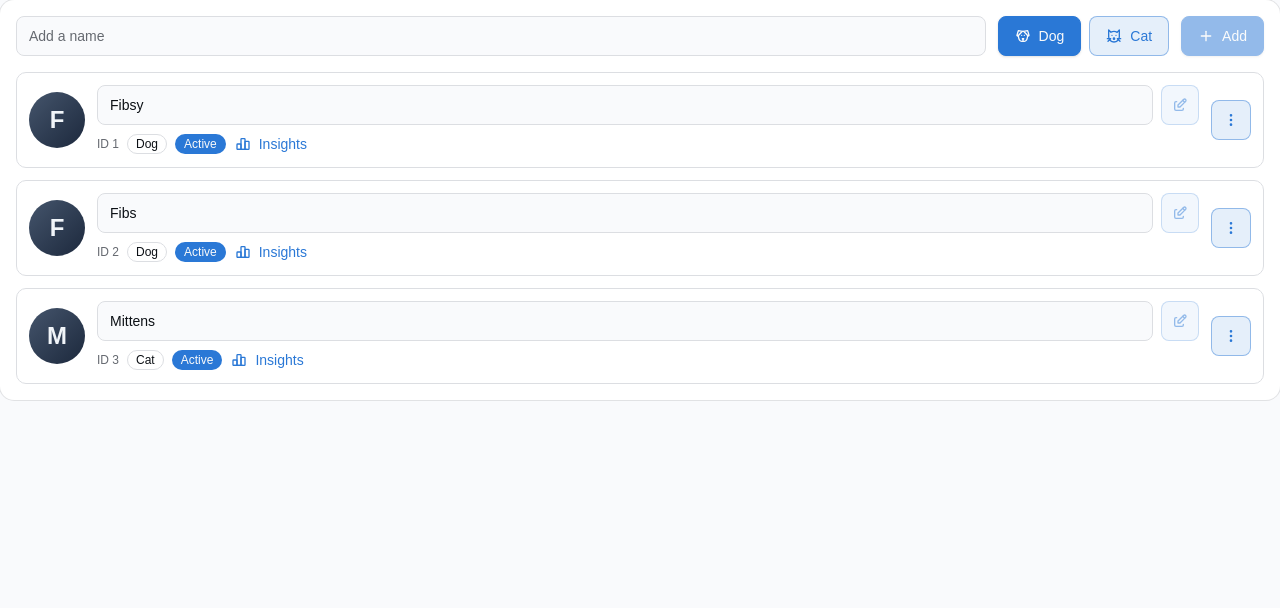
Test case: DogManagementCard merge › confirms before merging and reports what moved
This screenshot has width=1280, height=608.
expect the field showing "Fibsy" is shown: met, box [97,85,1153,125]
Click the button named "More actions for Fibsy". click: x=1231, y=120
box: [1211,100,1251,140]
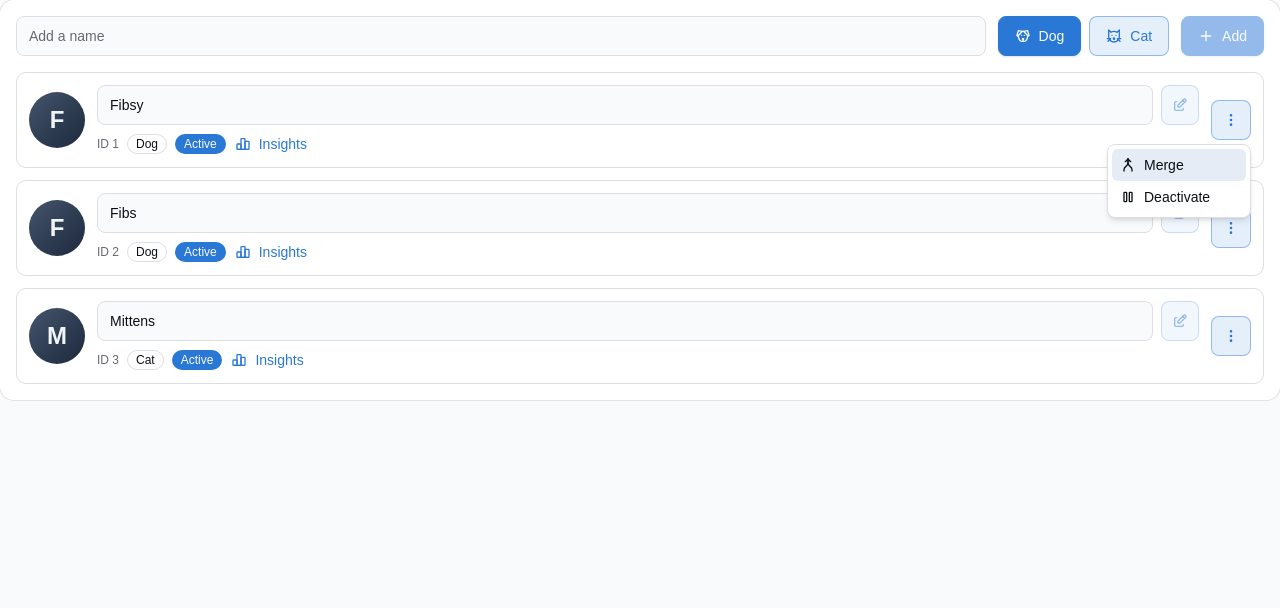
Click the menu item "Merge". click: x=1179, y=165
box: [1112,149,1246,181]
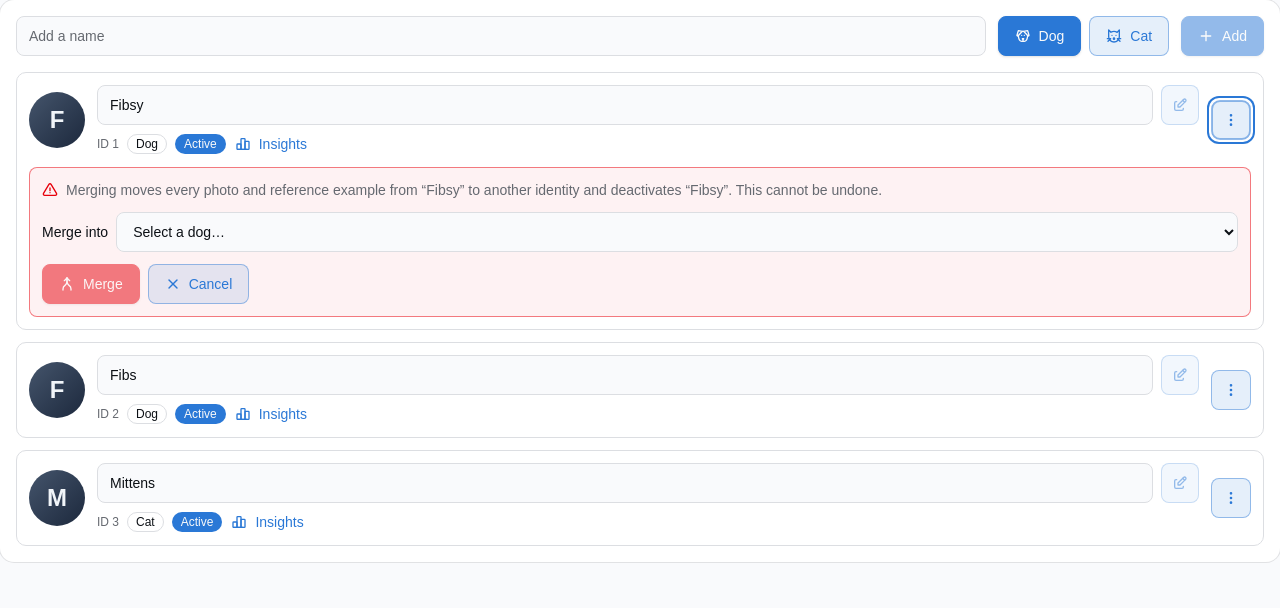
Select "Fibs" in the dropdown labelled "Merge into". click: x=677, y=232
box: [116,212,1238,252]
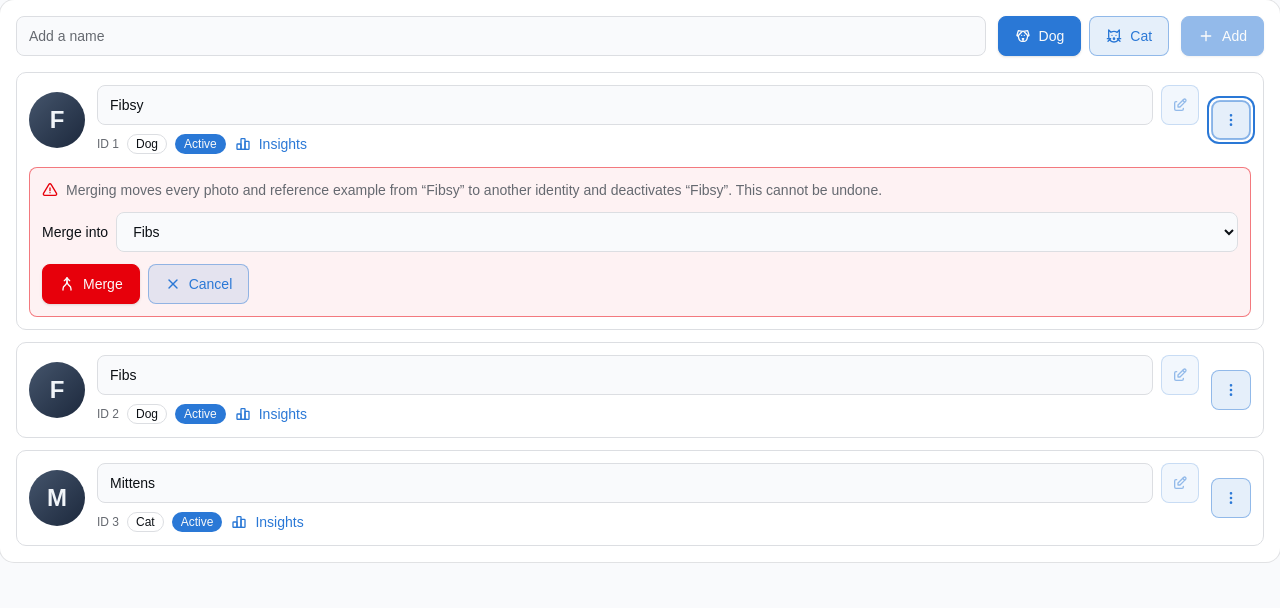
Click the button "Merge". click: x=91, y=284
box: [42,264,140,304]
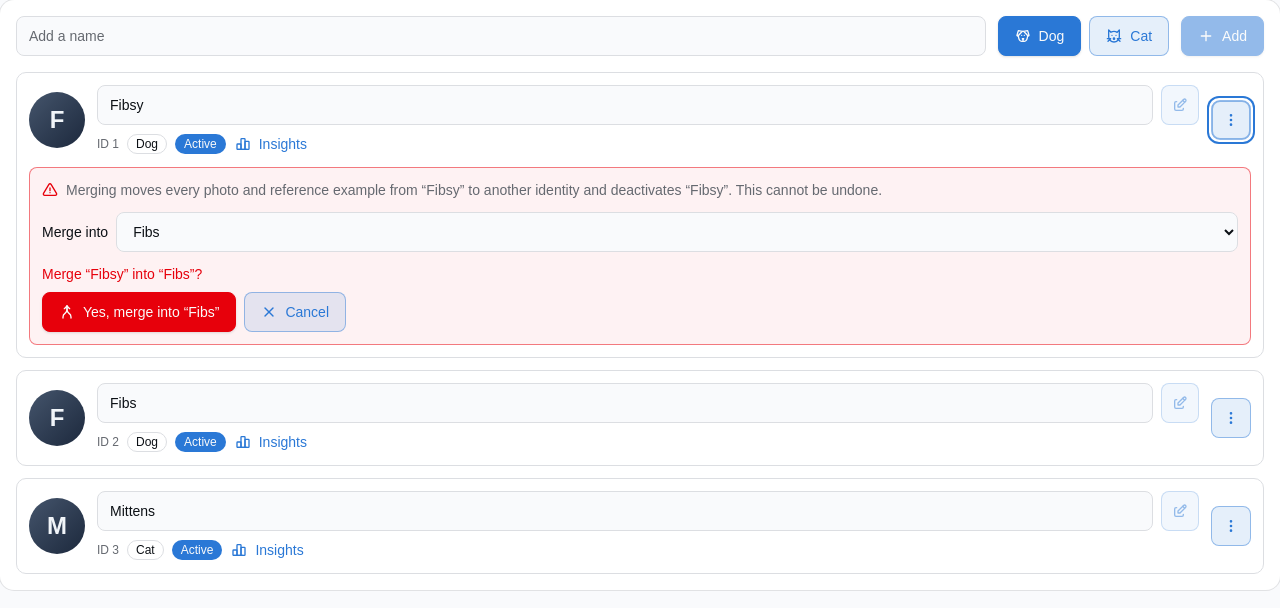
expect the text "Merge “Fibsy” into “Fibs”?" is shown: met, box [42,266,202,282]
Click the button "Yes, merge into “Fibs”". click: x=139, y=312
box: [42,292,236,332]
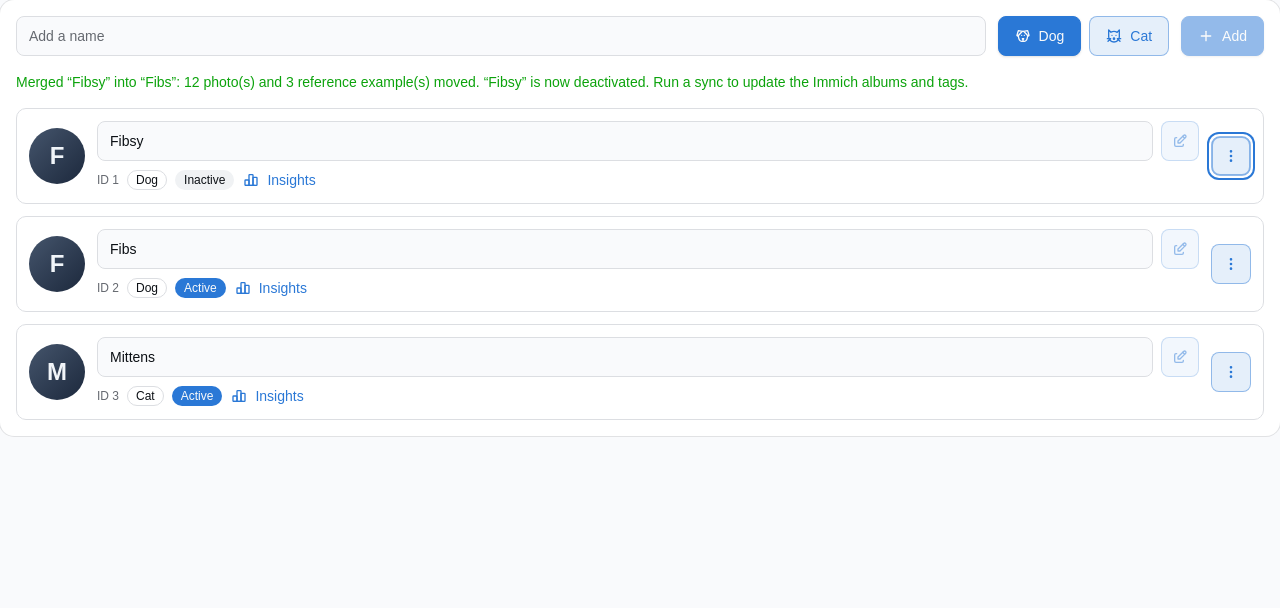
expect the text "Run a sync to update the Immich albums and tags" is shown: met, box [16,74,968,90]
